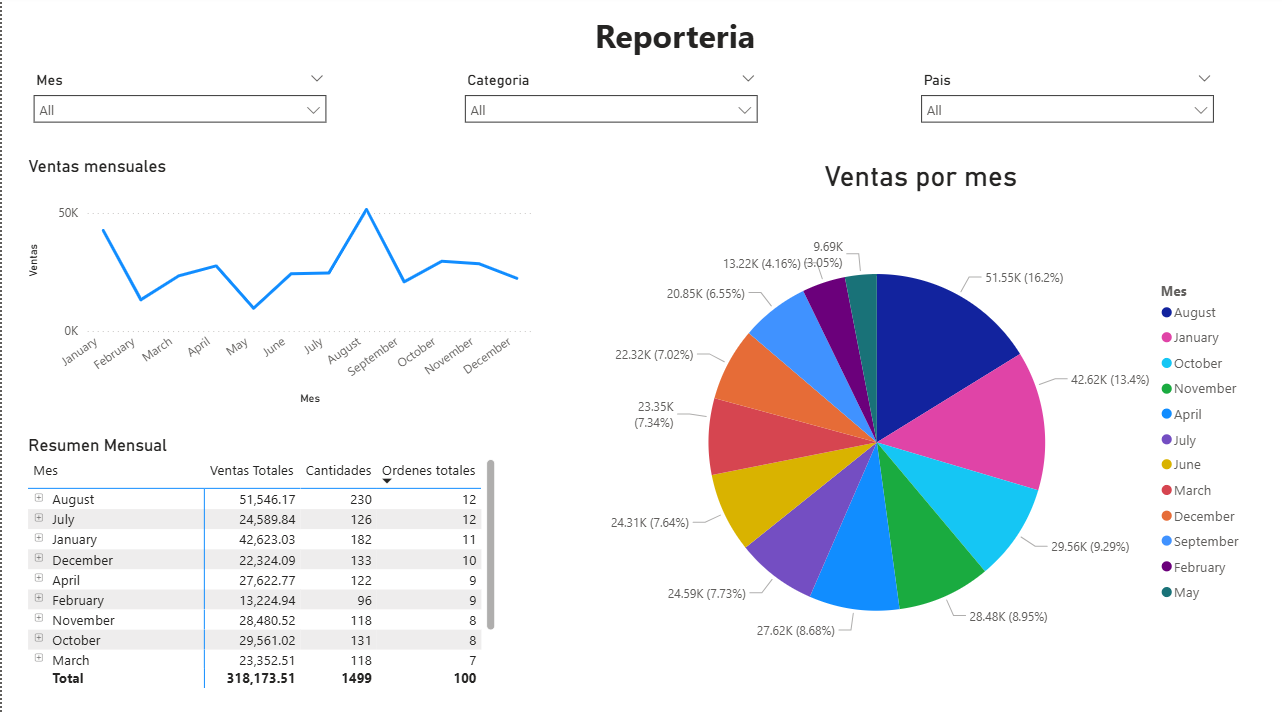

What the dashboard file says about the page in this screenshot:
{"tool":"powerbi","page":{"name":"Reporteria","canvas":[1280,720],"ordinal":0},"visuals":[{"type":"textbox","box":[450.3,13.7,439.1,57.2],"z":0},{"type":"slicer","fields":{"Values":["salesdatawarehouse dimtime.FullDate.Variation.Date Hierarchy.Month"]},"box":[21.5,70.9,311.5,72.2],"z":1000},{"type":"lineChart","title":"Ventas mensuales","fields":{"Category":["salesdatawarehouse dimtime.FullDate.Variation.Date Hierarchy.Month"],"Y":["Sum(salesdatawarehouse factsales.TotalPrice)"]},"box":[21.5,160.8,511.5,251.9],"z":2000},{"type":"pivotTable","title":"Resumen Mensual","fields":{"Rows":["salesdatawarehouse dimtime.MonthName","salesdatawarehouse dimtime.Year"],"Values":["Sum(salesdatawarehouse factsales.TotalPrice)","Sum(salesdatawarehouse factsales.Quantity)","Count(salesdatawarehouse factsales.OrderID)"]},"box":[21.5,438.1,474.8,257],"z":3000},{"type":"pieChart","title":"Ventas por mes","fields":{"Category":["salesdatawarehouse dimtime.MonthName"],"Y":["Sum(salesdatawarehouse factsales.TotalPrice)"]},"box":[583.4,164.2,661.8,531.2],"z":4000},{"type":"slicer","fields":{"Values":["salesdatawarehouse dimproduct.Category"]},"box":[450.7,70.9,311.5,72.2],"z":5000},{"type":"slicer","fields":{"Values":["salesdatawarehouse dimcustomer.Country"]},"box":[904,70.9,311.5,72.2],"z":6000}]}

Visuals, with their boxes in screenshot pixels (x1, y1, x2, y2), scaled from the page's 1280x720 canvas onto the 1282x712 screenshot:
textbox: (x1=451, y1=14, x2=891, y2=70)
slicer - salesdatawarehouse dimtime.FullDate.Variation.Date Hierarchy.Month: (x1=22, y1=70, x2=334, y2=142)
"Ventas mensuales" lineChart: (x1=22, y1=159, x2=534, y2=408)
"Resumen Mensual" pivotTable: (x1=22, y1=433, x2=497, y2=687)
"Ventas por mes" pieChart: (x1=584, y1=162, x2=1247, y2=688)
slicer - salesdatawarehouse dimproduct.Category: (x1=451, y1=70, x2=763, y2=142)
slicer - salesdatawarehouse dimcustomer.Country: (x1=905, y1=70, x2=1217, y2=142)
